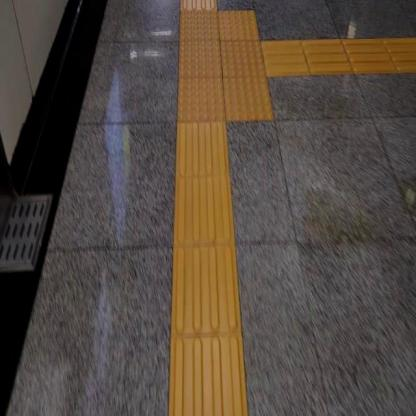podotacti: (169, 124, 251, 415), (165, 2, 285, 146), (267, 39, 415, 78)
